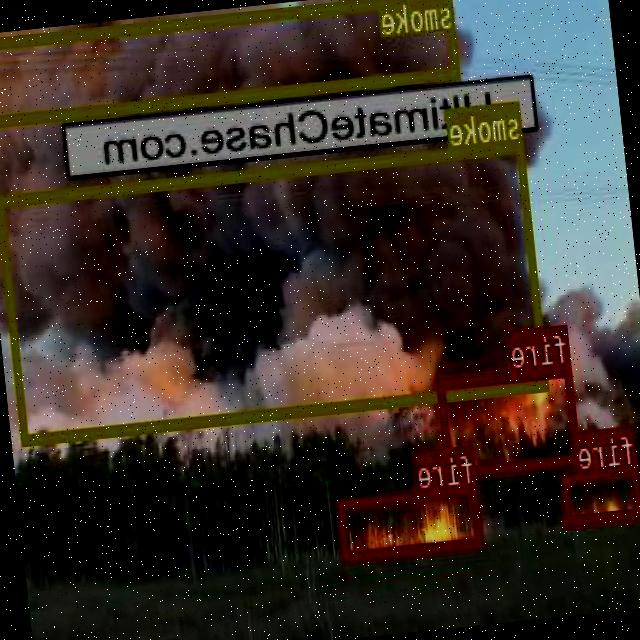fire: (438, 362, 582, 476), (338, 483, 484, 559), (562, 464, 640, 525)
smoke: (0, 137, 550, 442), (0, 0, 461, 124)
